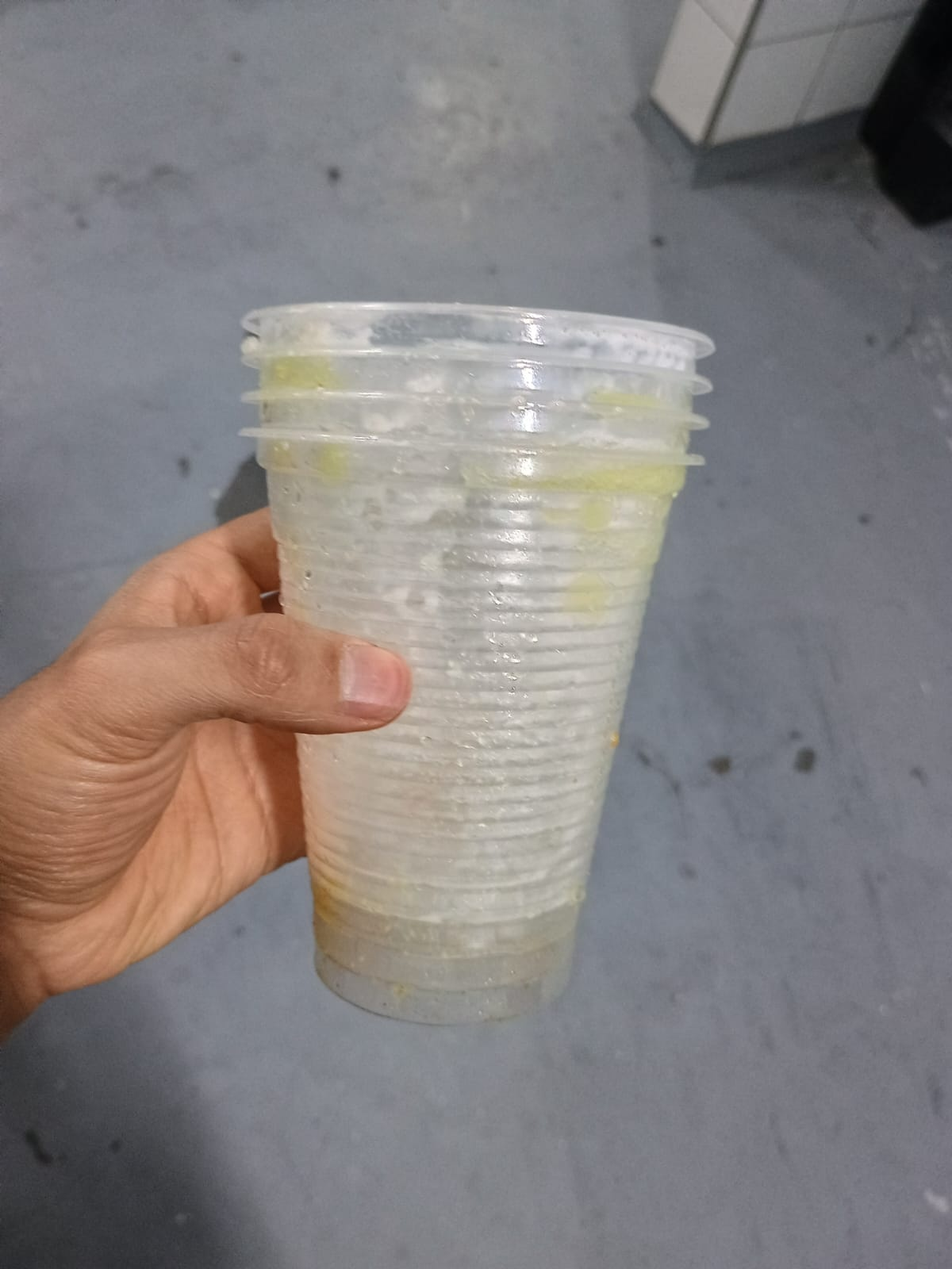Plastico: (239, 303, 712, 1032)
